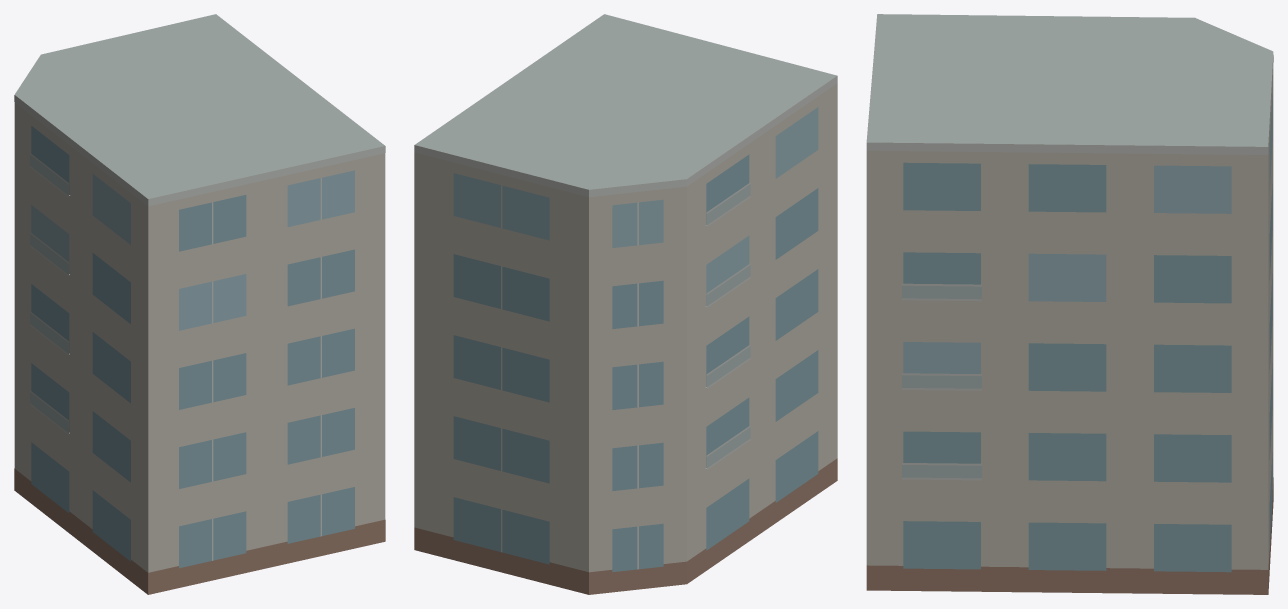
Rendered from survey-upis-32700965.glb.
3 renders of one model, left to right at view 1: azimuth 30°, elevation 25°; view 2: azimuth 150°, elevation 25°; view 3: azimuth 270°, elevation 25°, orthographic. The views are drawn at different scales.
Parts seen in each view (by area): view 1: survey-upis-32700965.tmp; view 2: survey-upis-32700965.tmp; view 3: survey-upis-32700965.tmp.
Boxes of the visible parts, x1=… form: survey-upis-32700965.tmp: x1=14, y1=14, x2=385, y2=594; survey-upis-32700965.tmp: x1=414, y1=14, x2=837, y2=594; survey-upis-32700965.tmp: x1=866, y1=14, x2=1273, y2=594.
Bounding box in the file's own units: 8.5 × 13.35 × 11.
